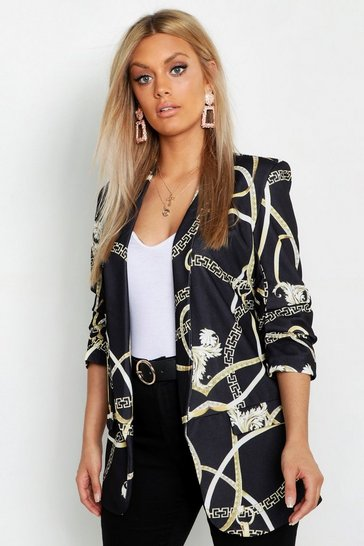F_W_suit jacket: (74, 150, 334, 495)
